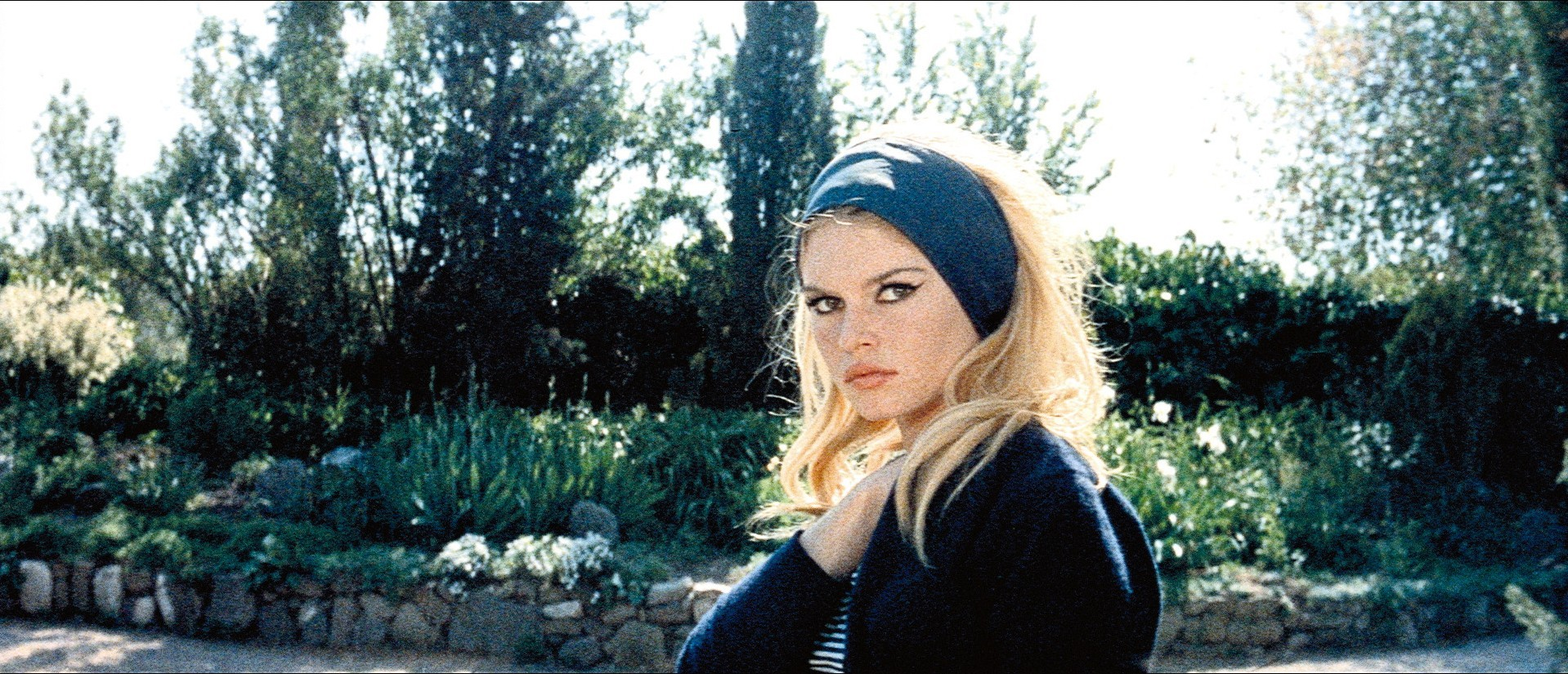28: (776, 180, 985, 452)
Coat: (671, 376, 1167, 669)
Female: (776, 180, 985, 452)
Hair Band: (782, 150, 1044, 349)
